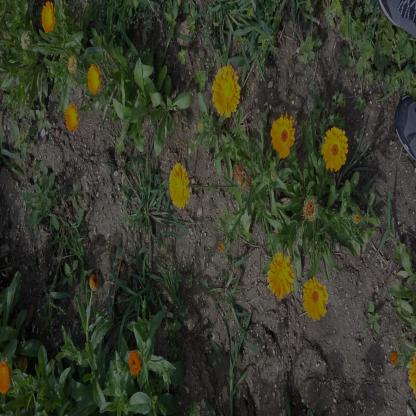marigold: (213, 68, 241, 117), (268, 254, 294, 298), (324, 127, 347, 170), (304, 278, 327, 320), (272, 116, 294, 159), (170, 164, 190, 209), (41, 1, 55, 32), (88, 65, 101, 92), (66, 104, 78, 131), (1, 361, 10, 393)
